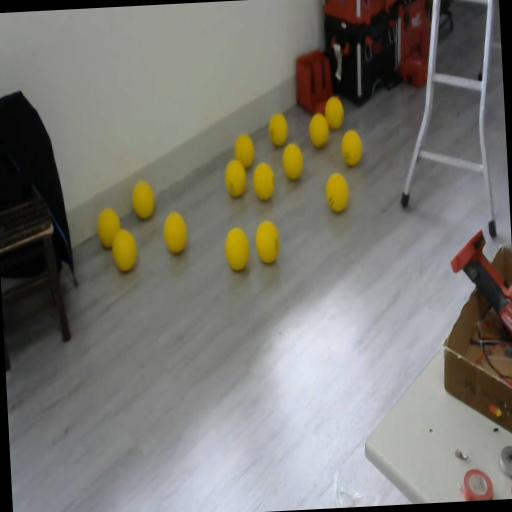FUEL: (110, 226, 139, 274), (223, 225, 251, 271), (254, 219, 281, 266), (161, 210, 189, 255), (251, 160, 276, 202), (325, 171, 350, 213), (130, 180, 156, 220), (224, 159, 248, 198), (233, 132, 256, 170), (340, 129, 363, 167), (282, 142, 304, 180), (323, 94, 345, 130), (308, 112, 330, 148), (268, 112, 289, 147)
